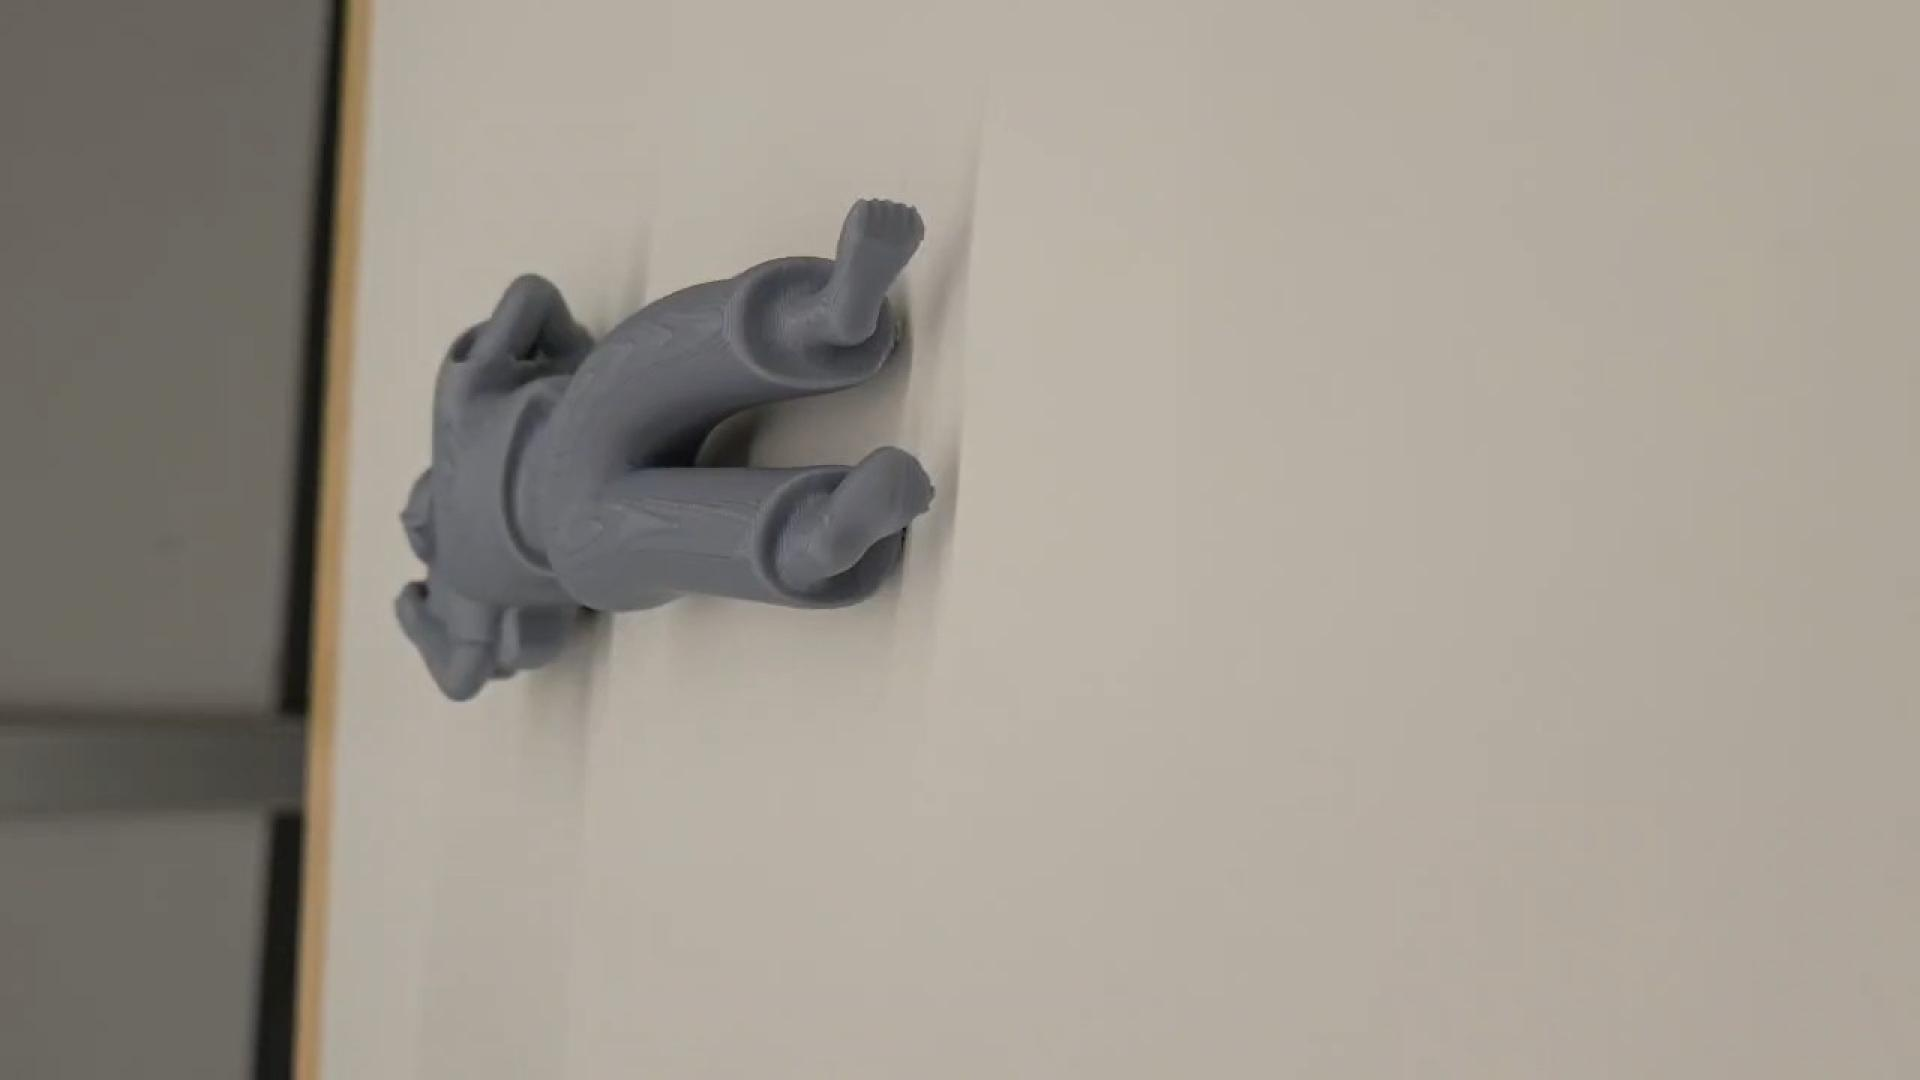Bad-style: (390, 190, 939, 713)
